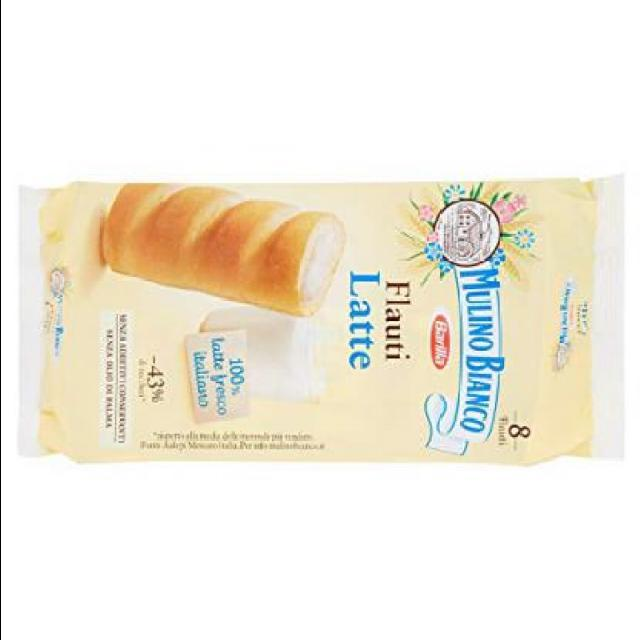Merendine: (14, 168, 626, 462)
Merendine packaged: (98, 181, 344, 317)
